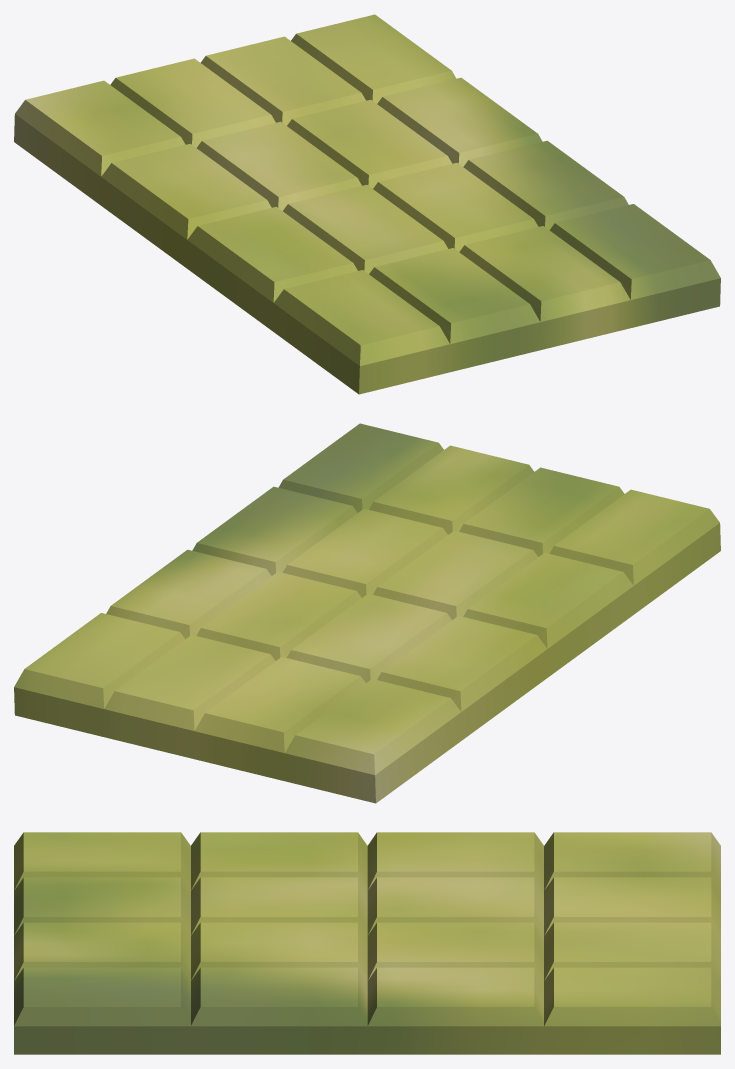
File: PLF0110151.fbx
3 views of the same model, one above another, from view 1: azimuth 30°, elevation 25°; view 2: azimuth 150°, elevation 25°; view 3: azimuth 270°, elevation 25° (orthographic). The views are drawn at different scales.
Parts seen in each view (by area): view 1: smPLF0110151; view 2: smPLF0110151; view 3: smPLF0110151.
Part boxes in pixels (x1,y1,x2,y2): smPLF0110151: (14, 14, 720, 394); smPLF0110151: (14, 423, 720, 803); smPLF0110151: (14, 832, 720, 1054).
Size of the model in its own units: 163 by 18.96 by 269.
